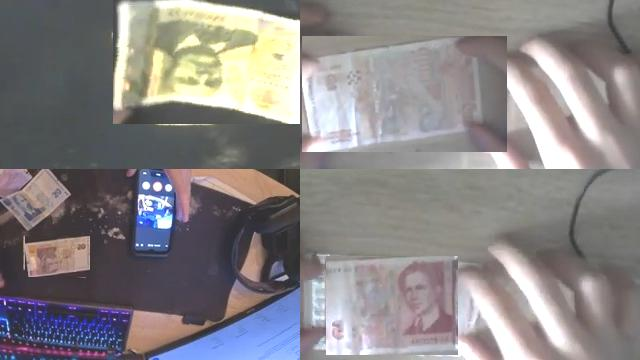10leva: (113, 0, 300, 124)
20leva: (0, 169, 71, 231)
50leva: (25, 236, 89, 277)
5leva: (302, 36, 507, 152), (326, 256, 458, 355)
